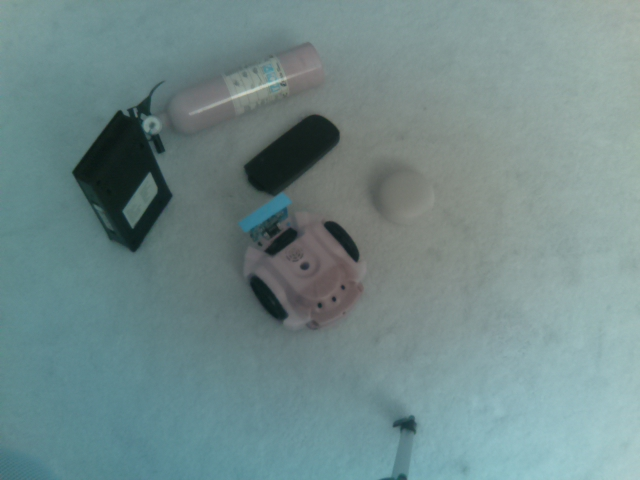board: (238, 191, 292, 243)
chassis: (236, 193, 372, 339)
